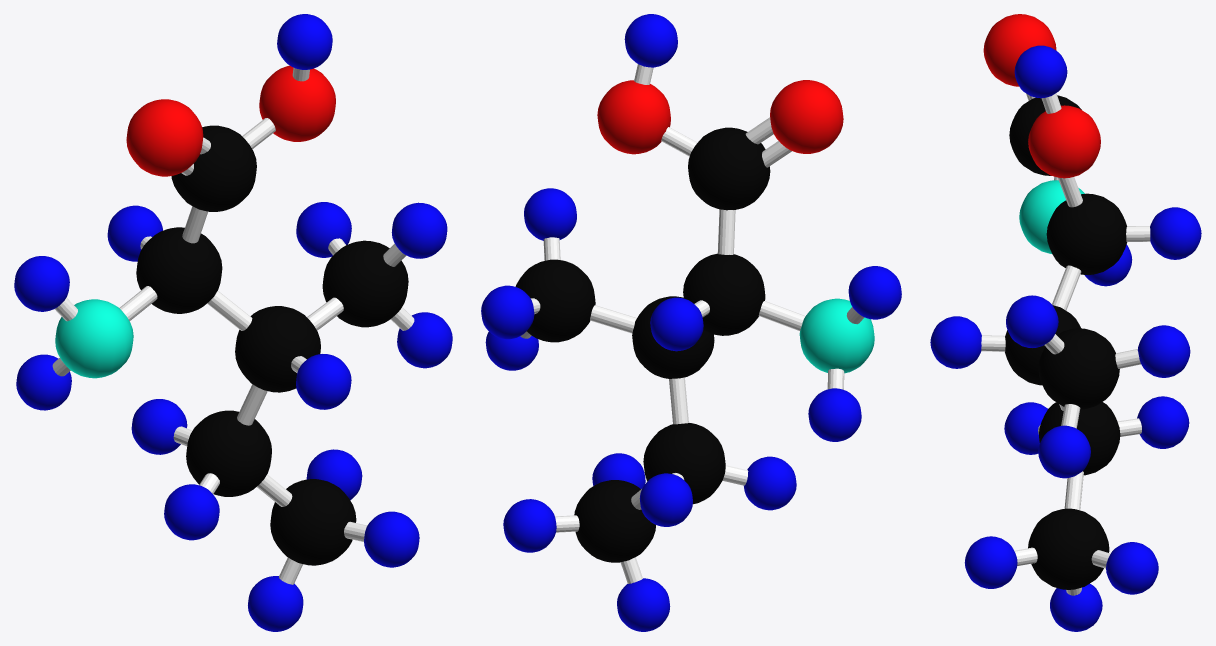
The model's file is isoleucina.obj.
3 views of the same model, side by side, from view 1: azimuth 30°, elevation 25°; view 2: azimuth 150°, elevation 25°; view 3: azimuth 270°, elevation 25° (orthographic). The views are drawn at different scales.
Visible parts, largest first — view 1: Shape_Sphere.009_Shape_Sphere.010, Shape_Sphere_Shape_Sphere.001, Shape_Sphere.003_Shape_Sphere.004, Shape_Sphere.007_Shape_Sphere.008, Shape_Sphere.002_Shape_Sphere.003, Shape_Sphere.001_Shape_Sphere.002, Shape_Sphere.015_Shape_Sphere.016, Shape_Sphere.021_Shape_Sphere, Shape_Sphere.019_Shape_Sphere.020, Shape_Sphere.011_Shape_Sphere.012, Shape_Sphere.006_Shape_Sphere.007, Shape_Sphere.020_Shape_Sphere.021 (+10 smaller); view 2: Shape_Sphere.001_Shape_Sphere.002, Shape_Sphere_Shape_Sphere.001, Shape_Sphere.009_Shape_Sphere.010, Shape_Sphere.003_Shape_Sphere.004, Shape_Sphere.007_Shape_Sphere.008, Shape_Sphere.021_Shape_Sphere, Shape_Sphere.019_Shape_Sphere.020, Shape_Sphere.015_Shape_Sphere.016, Shape_Sphere.002_Shape_Sphere.003, Shape_Sphere.018_Shape_Sphere.019, Shape_Sphere.016_Shape_Sphere.017, Shape_Sphere.004_Shape_Sphere.005 (+9 smaller); view 3: Shape_Sphere_Shape_Sphere.001, Shape_Sphere.003_Shape_Sphere.004, Shape_Sphere.009_Shape_Sphere.010, Shape_Sphere.019_Shape_Sphere.020, Shape_Sphere.021_Shape_Sphere, Shape_Sphere.007_Shape_Sphere.008, Shape_Sphere.020_Shape_Sphere.021, Shape_Sphere.005_Shape_Sphere.006, Shape_Sphere.012_Shape_Sphere.013, Shape_Sphere.014_Shape_Sphere.015, Shape_Sphere.006_Shape_Sphere.007, Shape_Sphere.004_Shape_Sphere.005 (+9 smaller).
Boxes of the visible parts, x1,y1,x2,y2 form: Shape_Sphere.009_Shape_Sphere.010: (270, 479, 356, 565); Shape_Sphere_Shape_Sphere.001: (136, 227, 222, 313); Shape_Sphere.003_Shape_Sphere.004: (322, 240, 408, 327); Shape_Sphere.007_Shape_Sphere.008: (186, 410, 271, 496); Shape_Sphere.002_Shape_Sphere.003: (235, 306, 320, 392); Shape_Sphere.001_Shape_Sphere.002: (171, 125, 256, 211); Shape_Sphere.015_Shape_Sphere.016: (55, 299, 133, 378); Shape_Sphere.021_Shape_Sphere: (126, 99, 203, 176); Shape_Sphere.019_Shape_Sphere.020: (259, 65, 335, 141); Shape_Sphere.011_Shape_Sphere.012: (164, 484, 219, 540); Shape_Sphere.006_Shape_Sphere.007: (391, 202, 447, 258); Shape_Sphere.020_Shape_Sphere.021: (277, 14, 332, 69); Shape_Sphere.001_Shape_Sphere.002: (688, 127, 770, 210); Shape_Sphere_Shape_Sphere.001: (683, 253, 765, 335); Shape_Sphere.009_Shape_Sphere.010: (574, 480, 655, 562); Shape_Sphere.003_Shape_Sphere.004: (515, 259, 595, 342); Shape_Sphere.007_Shape_Sphere.008: (643, 423, 725, 504); Shape_Sphere.021_Shape_Sphere: (770, 80, 843, 153); Shape_Sphere.019_Shape_Sphere.020: (597, 80, 670, 154); Shape_Sphere.015_Shape_Sphere.016: (799, 298, 874, 373); Shape_Sphere.002_Shape_Sphere.003: (632, 296, 714, 378); Shape_Sphere.018_Shape_Sphere.019: (650, 297, 703, 351); Shape_Sphere.016_Shape_Sphere.017: (808, 388, 861, 441); Shape_Sphere.004_Shape_Sphere.005: (481, 285, 534, 339); Shape_Sphere_Shape_Sphere.001: (1046, 193, 1127, 274); Shape_Sphere.003_Shape_Sphere.004: (1038, 328, 1119, 409); Shape_Sphere.009_Shape_Sphere.010: (1028, 508, 1109, 589); Shape_Sphere.019_Shape_Sphere.020: (1028, 105, 1100, 178); Shape_Sphere.021_Shape_Sphere: (983, 14, 1056, 86); Shape_Sphere.007_Shape_Sphere.008: (1039, 402, 1120, 475); Shape_Sphere.020_Shape_Sphere.021: (1014, 45, 1067, 98); Shape_Sphere.005_Shape_Sphere.006: (1038, 425, 1090, 478); Shape_Sphere.012_Shape_Sphere.013: (1106, 542, 1158, 594); Shape_Sphere.014_Shape_Sphere.015: (964, 536, 1017, 588); Shape_Sphere.006_Shape_Sphere.007: (1006, 295, 1058, 347); Shape_Sphere.004_Shape_Sphere.005: (1137, 325, 1190, 377).
Bounding box in the file's own units: 5.83 × 8.09 × 3.39.
